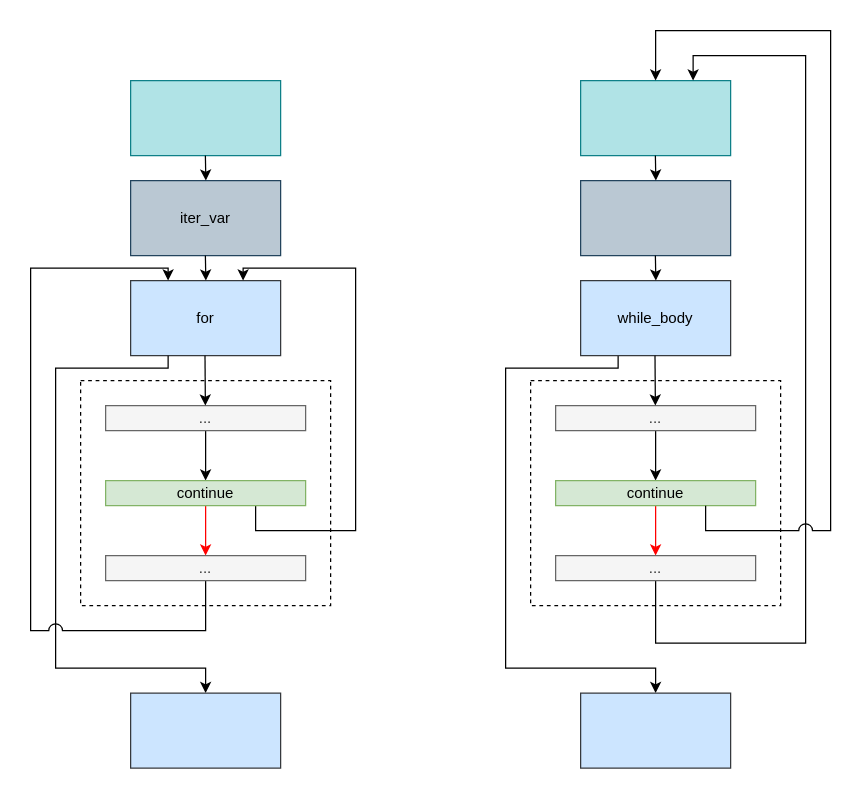
This 863x790 diagram has some shape labels left out. The shapes that lost their labels are listed below. From the top down, each one's centre as x and y in pixels, then its label:
At pixel 205 117: "range".
At pixel 655 117: "while".
At pixel 655 217: "expression".
At pixel 205 730: "for_end".
At pixel 655 730: "while_end".
